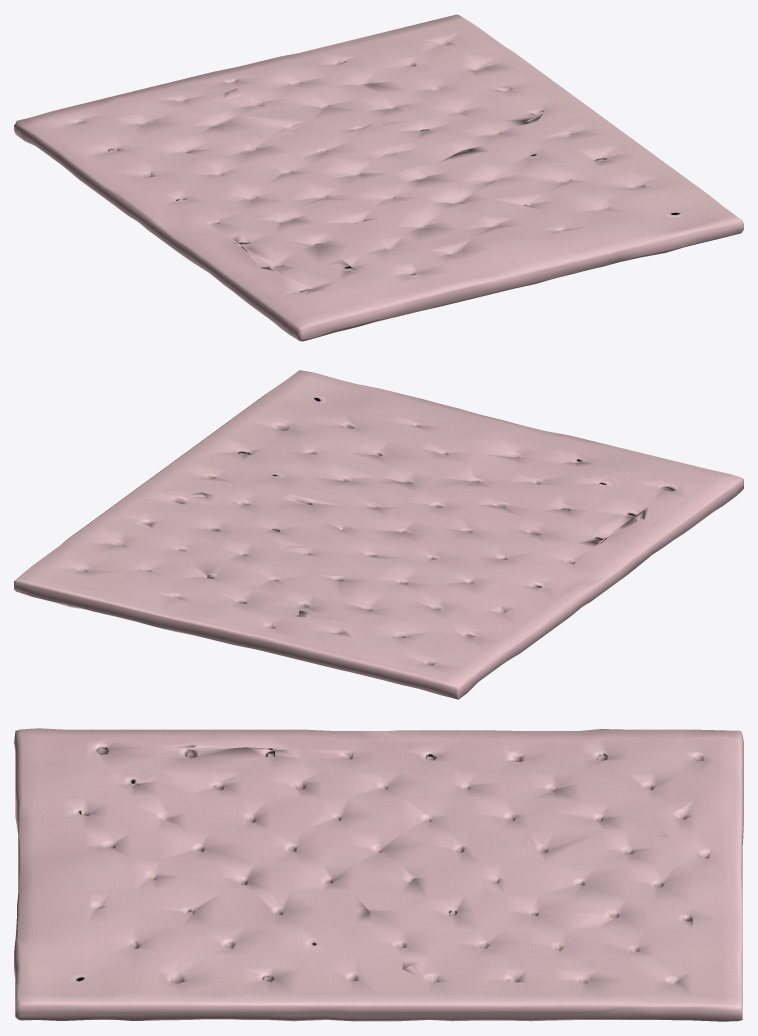
File: tripo_convert_af8ff8de-ea80-4e7e-917f-c90cac6ca5d3.fbx
3 views of the same model, one above another, from view 1: azimuth 30°, elevation 25°; view 2: azimuth 150°, elevation 25°; view 3: azimuth 270°, elevation 25° (orthographic). The views are drawn at different scales.
Visible parts, largest first — view 1: tripo_node_af8ff8de; view 2: tripo_node_af8ff8de; view 3: tripo_node_af8ff8de.
Boxes of the visible parts, box(x1,y1,x2,y2) form: tripo_node_af8ff8de: box(14, 14, 743, 341); tripo_node_af8ff8de: box(14, 370, 743, 699); tripo_node_af8ff8de: box(14, 728, 743, 1021).
Size of the model in its own units: 0.8789 by 0.046 by 0.9785.
